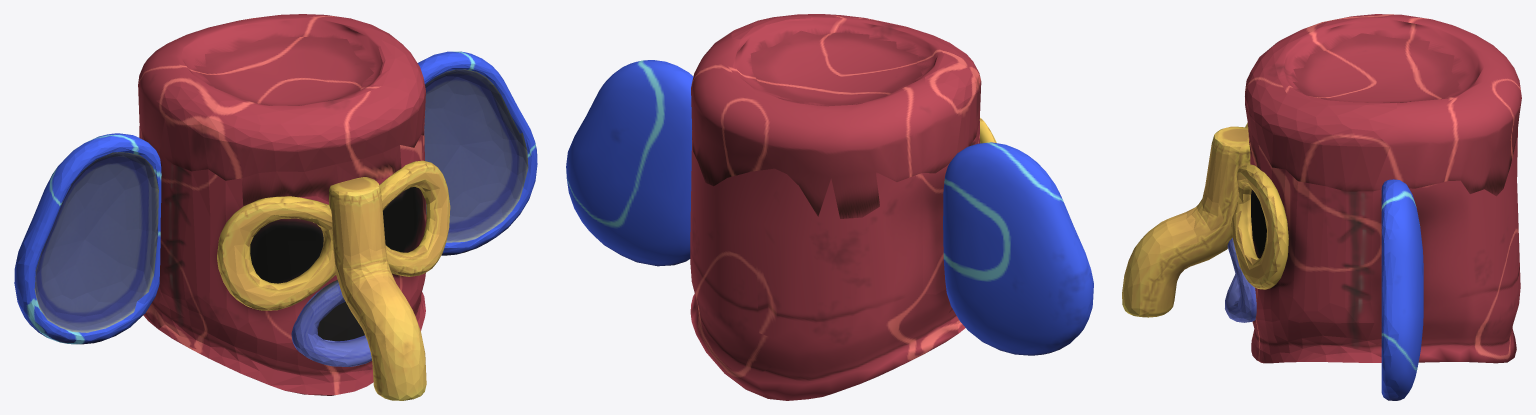
The model's file is Marimonda Mask Low.fbx.
3 views of the same model, side by side, from view 1: azimuth 30°, elevation 25°; view 2: azimuth 150°, elevation 25°; view 3: azimuth 270°, elevation 25° (orthographic).
Visible parts, largest first — view 1: Zapatos_Low; view 2: Zapatos_Low; view 3: Zapatos_Low.
Boxes of the visible parts, x1=… form: Zapatos_Low: x1=14, y1=14, x2=537, y2=400; Zapatos_Low: x1=566, y1=14, x2=1093, y2=400; Zapatos_Low: x1=1122, y1=14, x2=1521, y2=400.
Bounding box in the file's own units: 2.52 × 1.35 × 1.7.
